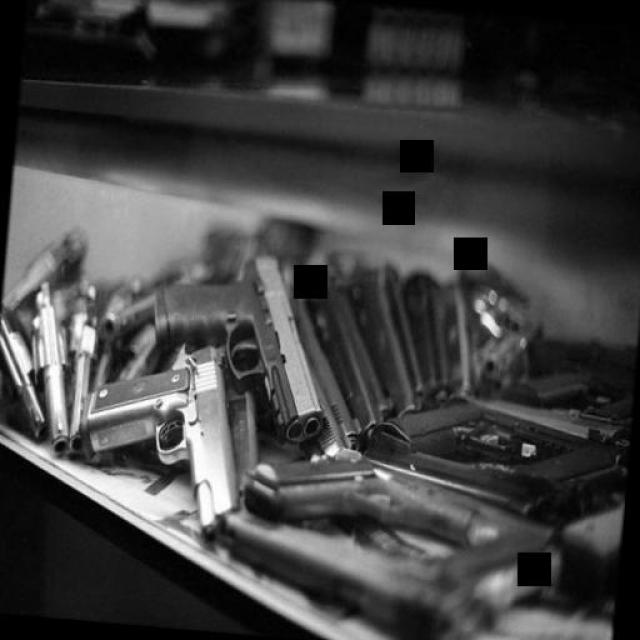gun: (139, 243, 339, 447), (79, 330, 254, 531), (241, 438, 500, 544)
